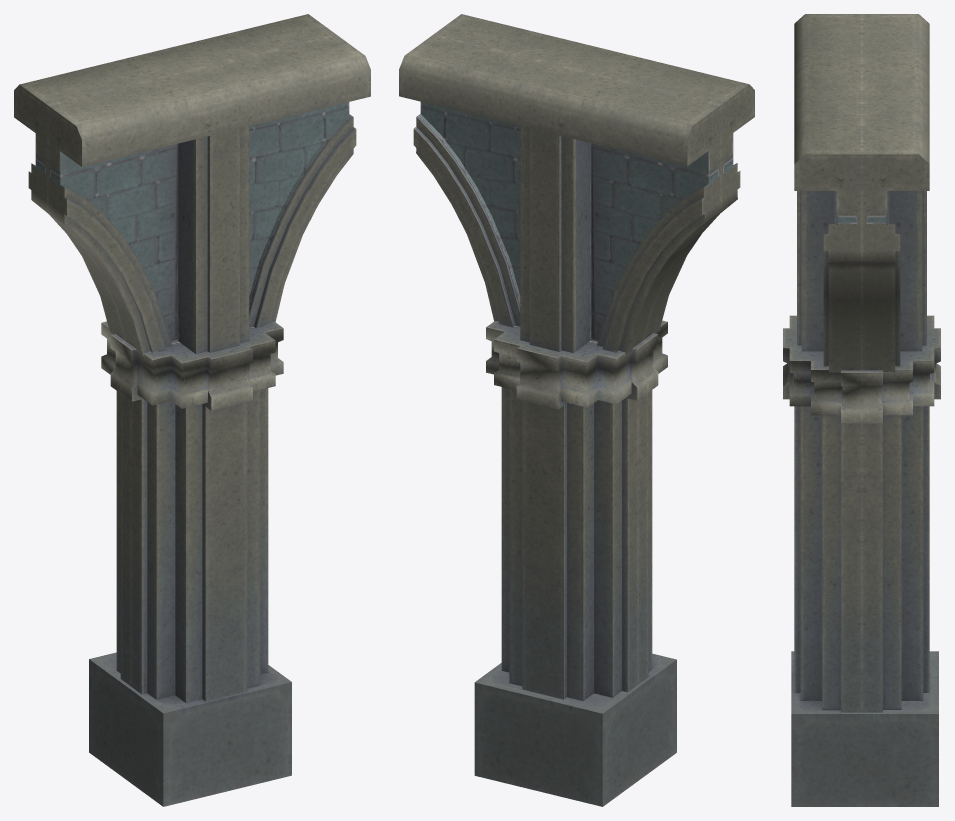
File: AD_ArchPillar_A_01.fbx
The picture shows the model from 3 angles, left to right: view 1: azimuth 30°, elevation 25°; view 2: azimuth 150°, elevation 25°; view 3: azimuth 270°, elevation 25°; orthographic projection.
Parts seen in each view (by area): view 1: AD_ArchPillar_A_01; view 2: AD_ArchPillar_A_01; view 3: AD_ArchPillar_A_01.
Part boxes in pixels (x1,y1,x2,y2): AD_ArchPillar_A_01: [14, 14, 370, 806]; AD_ArchPillar_A_01: [399, 14, 754, 806]; AD_ArchPillar_A_01: [783, 14, 940, 806].
Bounding box in the file's own units: 450 × 1032 × 213.
1 material, 1 textured.
